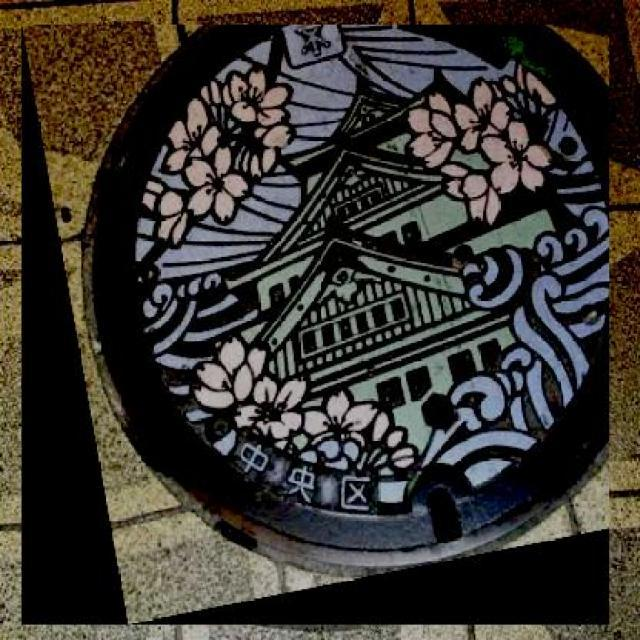Manhole: (22, 24, 610, 626)
